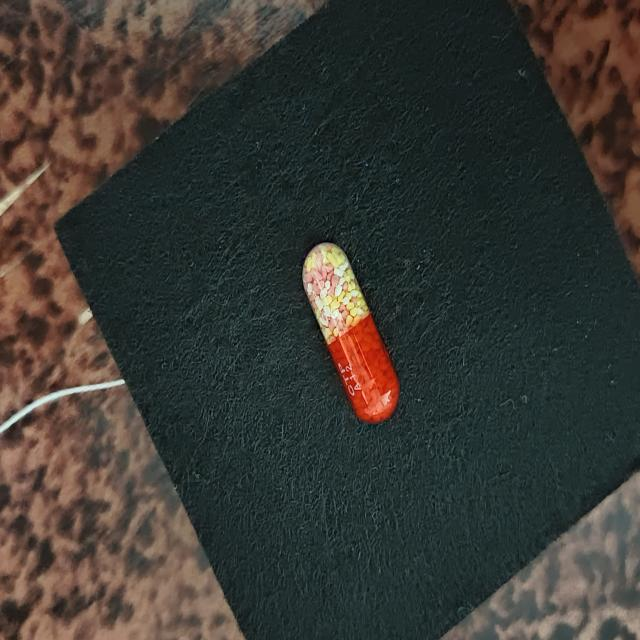Intact Capsule: (302, 242, 399, 423)
